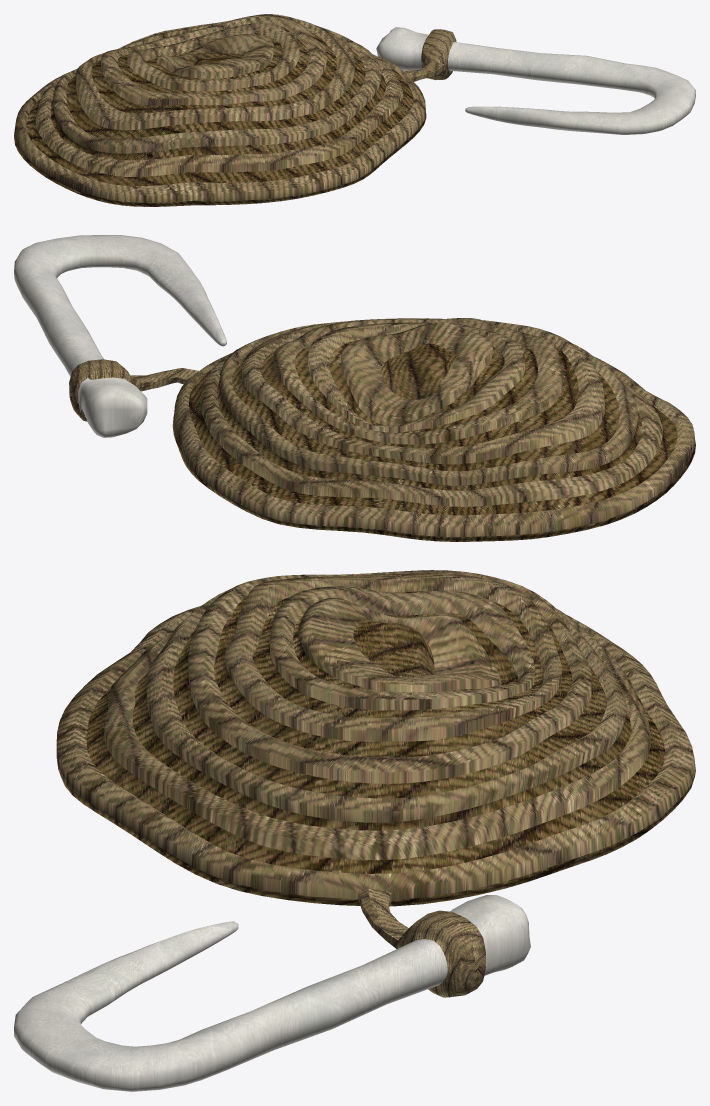
The model's file is Hook.fbx.
The picture shows the model from 3 angles, top to bottom: view 1: azimuth 30°, elevation 25°; view 2: azimuth 150°, elevation 25°; view 3: azimuth 270°, elevation 25°; orthographic projection. The views are drawn at different scales.
Parts seen in each view (by area): view 1: hookropemesh; view 2: hookropemesh; view 3: hookropemesh.
Part boxes in pixels (box(x1,y1,x2,y2)): hookropemesh: box(14, 14, 695, 206); hookropemesh: box(14, 235, 695, 541); hookropemesh: box(14, 570, 695, 1091).
Size of the model in its own units: 2.58 by 0.4381 by 1.56.
Materials: 4 (3 with a texture image).
